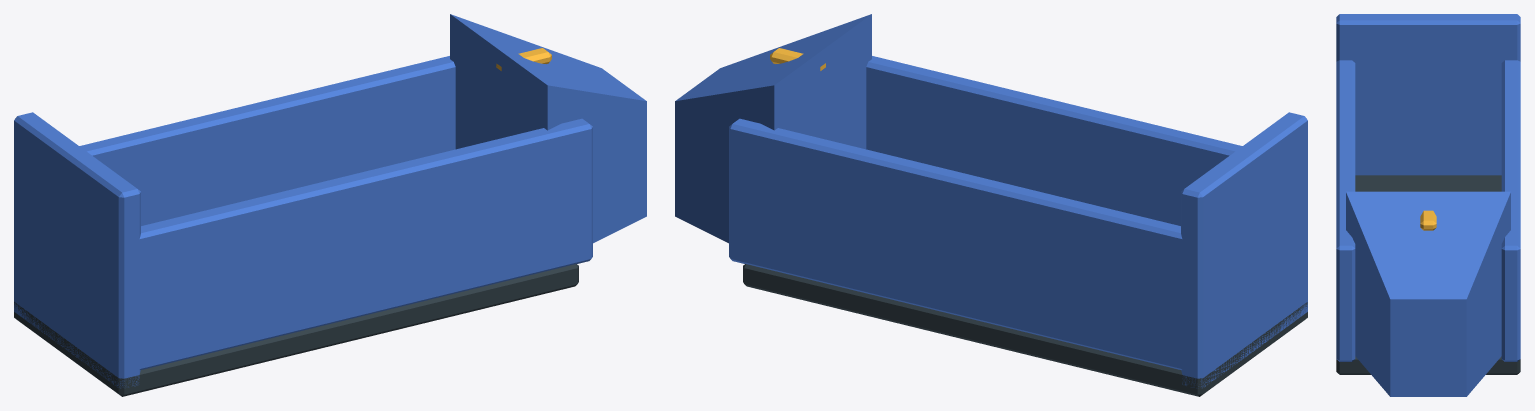
Rendered from placeholder-lead-car-shell.glb.
The picture shows the model from 3 angles, left to right: view 1: azimuth 30°, elevation 25°; view 2: azimuth 150°, elevation 25°; view 3: azimuth 270°, elevation 25°; orthographic projection. The views are drawn at different scales.
Visible parts, largest first — view 1: QUANTUM_Placeholder_Lead_Car_Shell; view 2: QUANTUM_Placeholder_Lead_Car_Shell; view 3: QUANTUM_Placeholder_Lead_Car_Shell.
Part boxes in pixels (box(x1,y1,x2,y2)): QUANTUM_Placeholder_Lead_Car_Shell: box(14, 14, 646, 396); QUANTUM_Placeholder_Lead_Car_Shell: box(675, 14, 1307, 396); QUANTUM_Placeholder_Lead_Car_Shell: box(1336, 14, 1520, 396).
Size of the model in its own units: 4 by 1.4 by 1.35.
